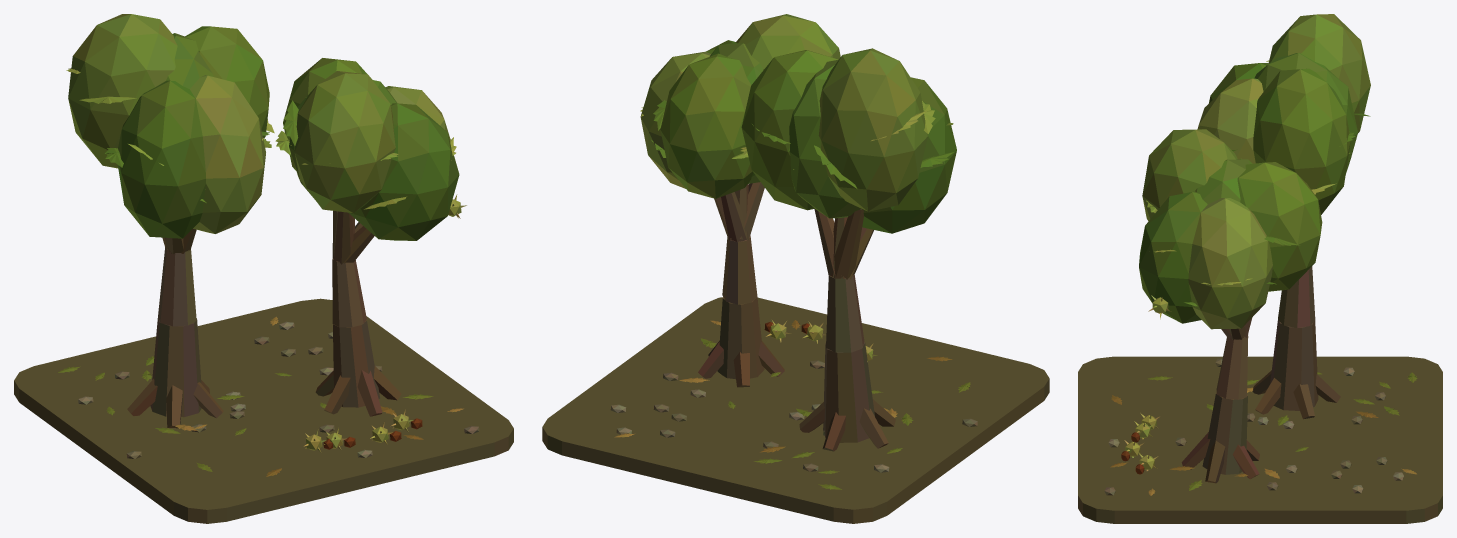
Rendered from chataignier_moyen.glb.
The picture shows the model from 3 angles, left to right: view 1: azimuth 30°, elevation 25°; view 2: azimuth 150°, elevation 25°; view 3: azimuth 270°, elevation 25°; orthographic projection. The views are drawn at different scales.
Visible parts, largest first — view 1: Feuilles_et_chataignes, Sous_bois, Troncs_et_ramures; view 2: Sous_bois, Feuilles_et_chataignes, Troncs_et_ramures; view 3: Sous_bois, Feuilles_et_chataignes, Troncs_et_ramures.
Part boxes in pixels (box(x1,y1,x2,y2)): Feuilles_et_chataignes: box(58, 14, 466, 476); Sous_bois: box(14, 298, 513, 523); Troncs_et_ramures: box(127, 211, 422, 449); Sous_bois: box(542, 297, 1049, 523); Feuilles_et_chataignes: box(614, 14, 970, 489); Troncs_et_ramures: box(698, 182, 895, 451); Sous_bois: box(1078, 356, 1442, 523); Feuilles_et_chataignes: box(1110, 14, 1417, 495); Troncs_et_ramures: box(1121, 266, 1340, 483).
Size of the model in its own units: 0.5 by 0.582 by 0.5.
